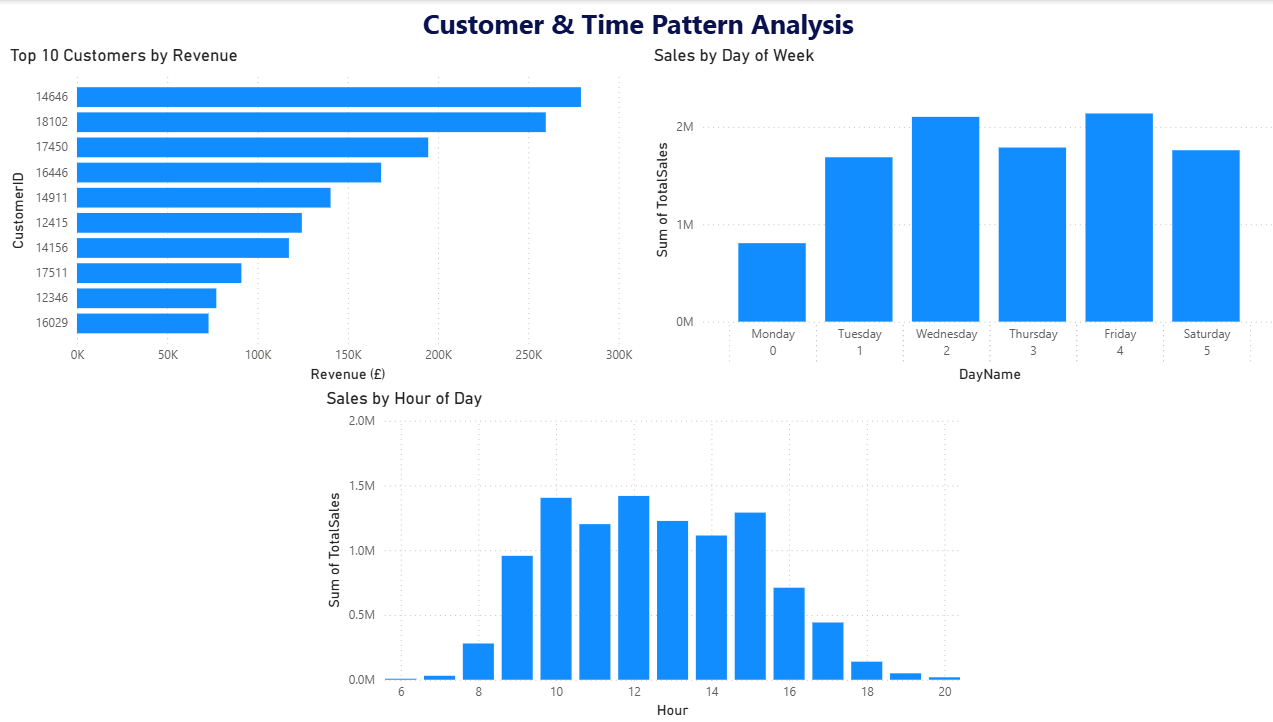

The dashboard page shown, as its layout file describes it:
{"tool":"powerbi","page":{"name":"Page 2","canvas":[1280,720],"ordinal":1},"visuals":[{"type":"barChart","title":"Top 10 Customers by Revenue","fields":{"Y":["Sum(OnlineRetail.TotalSales)"],"Category":["OnlineRetail.CustomerID"]},"box":[9.6,45.3,629.8,340.3],"z":0},{"type":"clusteredColumnChart","title":"Sales by Day of Week","fields":{"Category":["OnlineRetail.DayNum","OnlineRetail.DayName"],"Y":["Sum(OnlineRetail.TotalSales)"]},"box":[650.4,45.3,629.8,340.3],"z":1},{"type":"clusteredColumnChart","title":"Sales by Hour of Day","fields":{"Category":["OnlineRetail.Hour"],"Y":["Sum(OnlineRetail.TotalSales)"]},"box":[325.2,385.6,640.8,334.8],"z":2},{"type":"textbox","box":[0,0,1280.3,45.3],"z":3}]}

Visuals, with their boxes in screenshot pixels (x1, y1, x2, y2), scaled from the page's 1280x720 canvas onto the 1273x722 screenshot:
"Top 10 Customers by Revenue" barChart: 10, 45, 636, 387
"Sales by Day of Week" clusteredColumnChart: 647, 45, 1272, 387
"Sales by Hour of Day" clusteredColumnChart: 323, 387, 961, 721
textbox: 0, 0, 1272, 45
